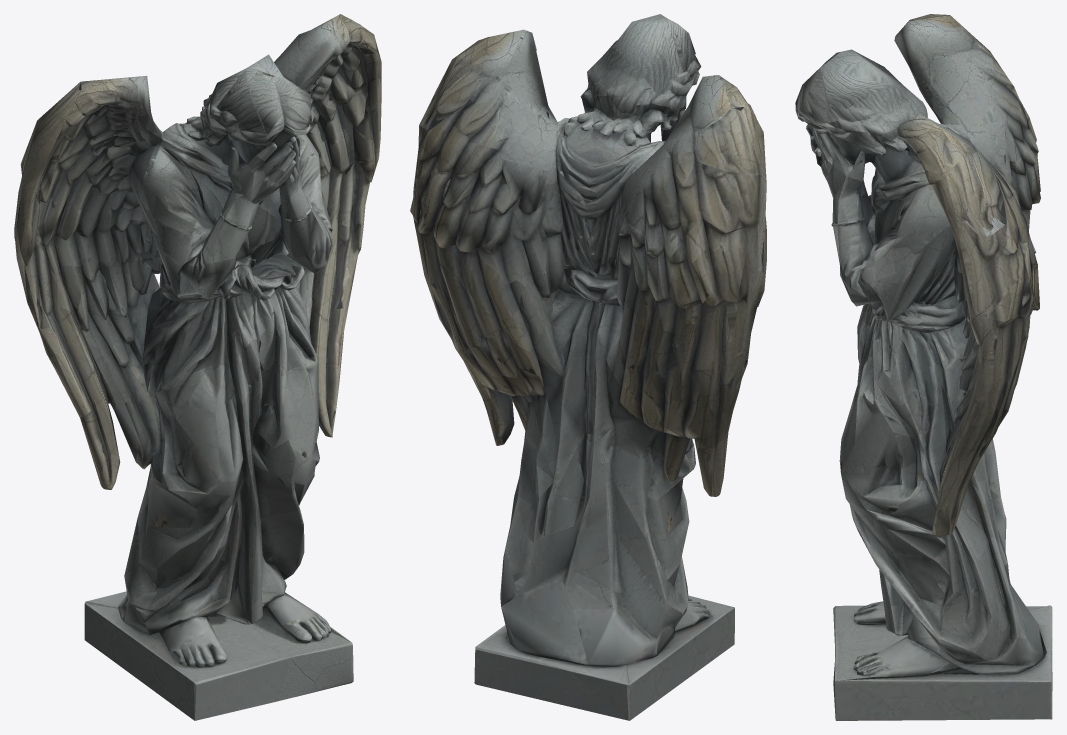
File: mx_pr_angel_statue.glb
3 views of the same model, side by side, from view 1: azimuth 30°, elevation 25°; view 2: azimuth 150°, elevation 25°; view 3: azimuth 270°, elevation 25° (orthographic). The views are drawn at different scales.
Size of the model in its own units: 1.13 by 1.89 by 0.7059.
1 material, 1 textured.
